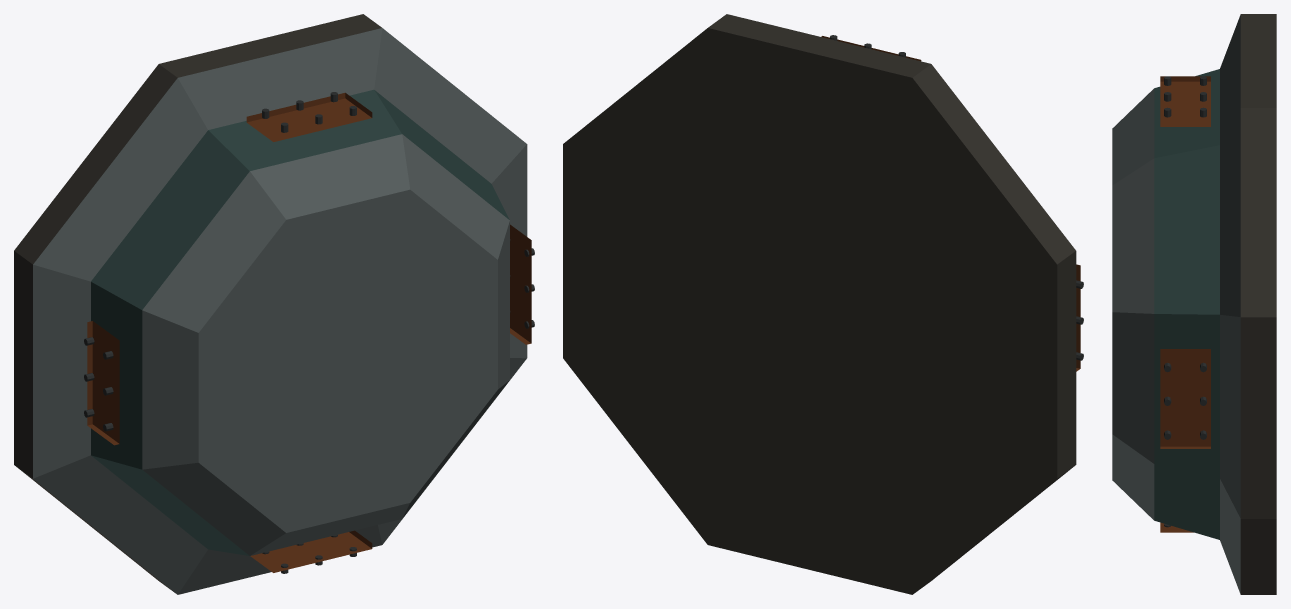
Rendered from VD_SpireBase.obj.
3 renders of one model, left to right at view 1: azimuth 30°, elevation 25°; view 2: azimuth 150°, elevation 25°; view 3: azimuth 270°, elevation 25°, orthographic. The views are drawn at different scales.
Parts seen in each view (by area): view 1: VD_SpireBase_M_Spire_BareMetal, VD_SpireBase_M_Spire_PaintedSteel, VD_SpireBase_M_Spire_Concrete, VD_SpireBase_M_Spire_ServicePanel, VD_SpireBase_M_Spire_Fastener; view 2: VD_SpireBase_M_Spire_Concrete; view 3: VD_SpireBase_M_Spire_BareMetal, VD_SpireBase_M_Spire_PaintedSteel, VD_SpireBase_M_Spire_Concrete, VD_SpireBase_M_Spire_ServicePanel, VD_SpireBase_M_Spire_Fastener.
Part boxes in pixels (bbox=[...]): VD_SpireBase_M_Spire_BareMetal: bbox=[33, 28, 527, 594]; VD_SpireBase_M_Spire_PaintedSteel: bbox=[91, 89, 509, 555]; VD_SpireBase_M_Spire_Concrete: bbox=[14, 14, 381, 592]; VD_SpireBase_M_Spire_ServicePanel: bbox=[87, 92, 531, 572]; VD_SpireBase_M_Spire_Fastener: bbox=[84, 92, 534, 573]; VD_SpireBase_M_Spire_Concrete: bbox=[563, 14, 1076, 594]; VD_SpireBase_M_Spire_BareMetal: bbox=[1112, 15, 1240, 593]; VD_SpireBase_M_Spire_PaintedSteel: bbox=[1154, 69, 1219, 539]; VD_SpireBase_M_Spire_Concrete: bbox=[1240, 14, 1276, 594]; VD_SpireBase_M_Spire_ServicePanel: bbox=[1160, 76, 1210, 532]; VD_SpireBase_M_Spire_Fastener: bbox=[1164, 76, 1206, 527].
Bounding box in the file's own units: 360 × 360 × 110.
